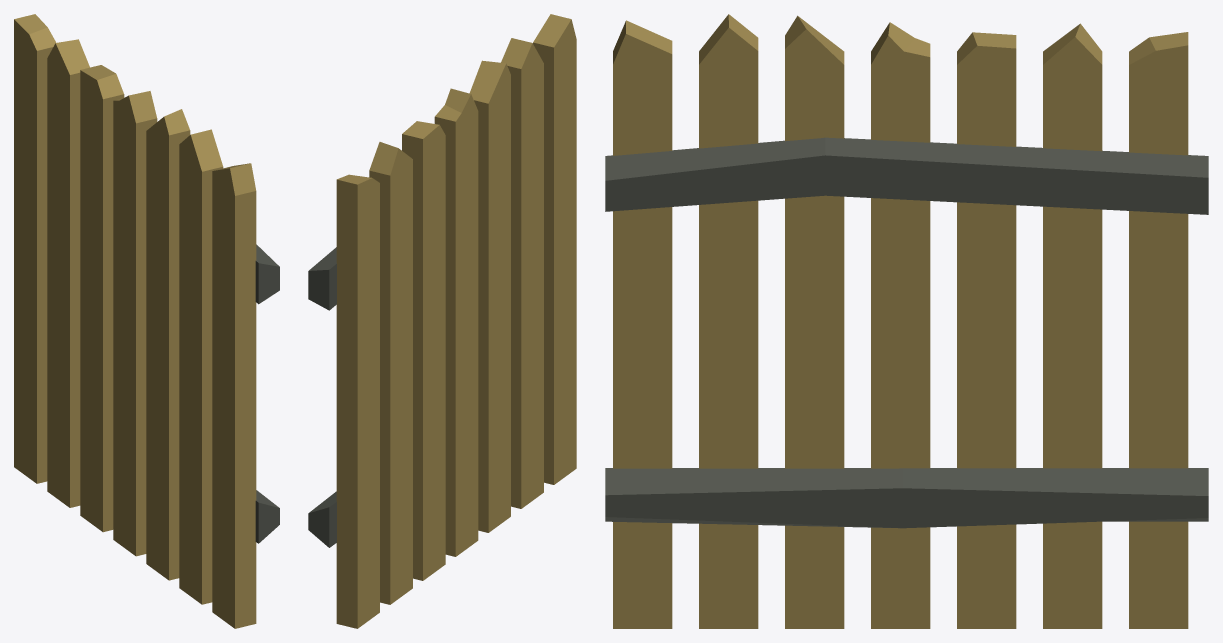
File: Fence.fbx
3 renders of one model, left to right at view 1: azimuth 30°, elevation 25°; view 2: azimuth 150°, elevation 25°; view 3: azimuth 270°, elevation 25°, orthographic. The views are drawn at different scales.
Visible parts, largest first — view 1: Cube, Cube.001; view 2: Cube, Cube.001; view 3: Cube, Cube.001.
Part boxes in pixels (x1,y1,x2,y2): Cube: (14,14,256,628); Cube.001: (255,244,279,543); Cube: (336,14,576,628); Cube.001: (308,247,336,547); Cube: (613,14,1188,628); Cube.001: (605,137,1208,528).
Bounding box in the file's own units: 20.97 × 221 × 201.
